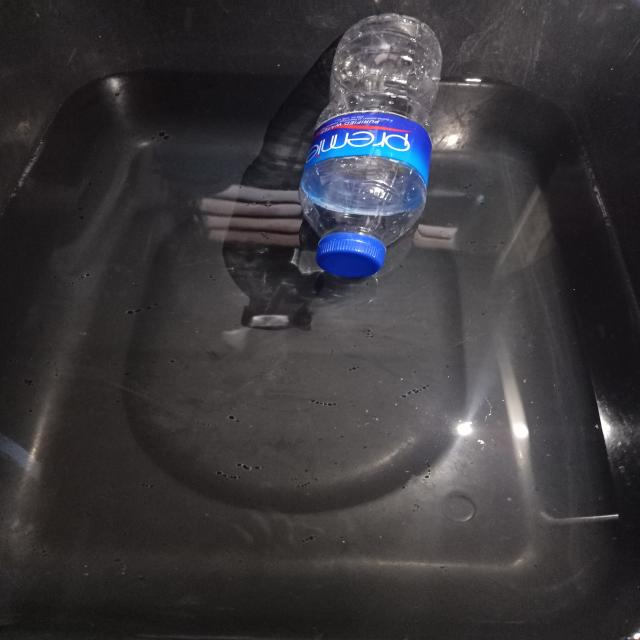Plastic Bottle: (299, 14, 441, 278), (376, 184, 380, 188)
